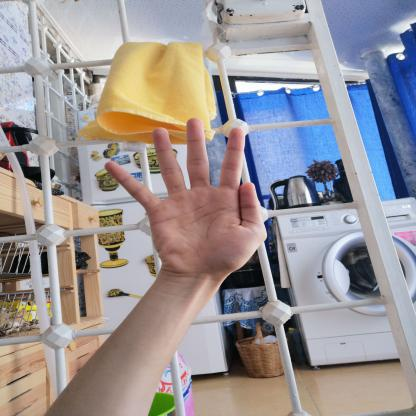SHEEN: (95, 109, 287, 292)
